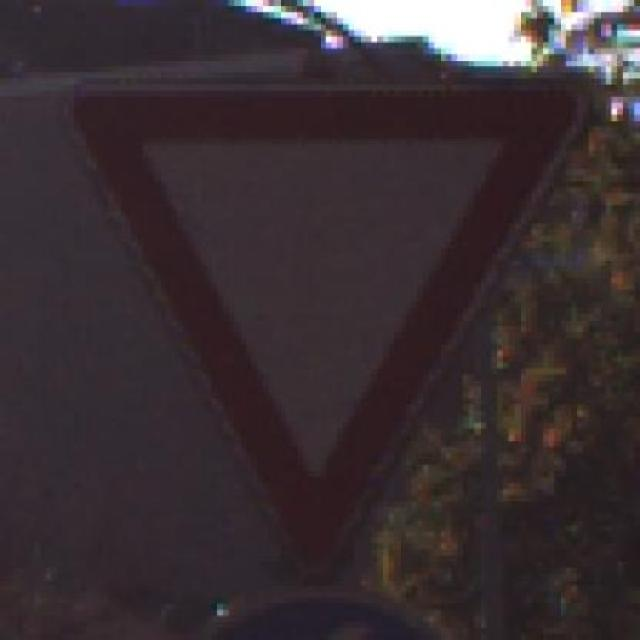Give Way: (64, 71, 602, 572)
